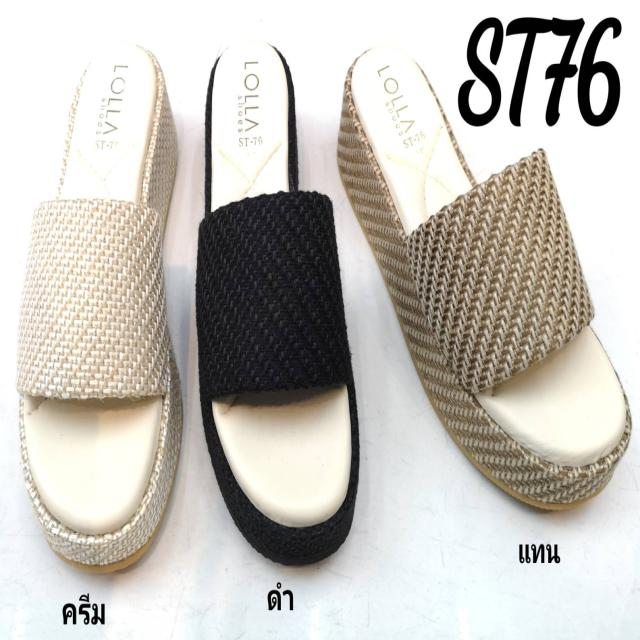black: (207, 42, 359, 565)
cream: (24, 42, 180, 559)
tan: (341, 48, 628, 506)
